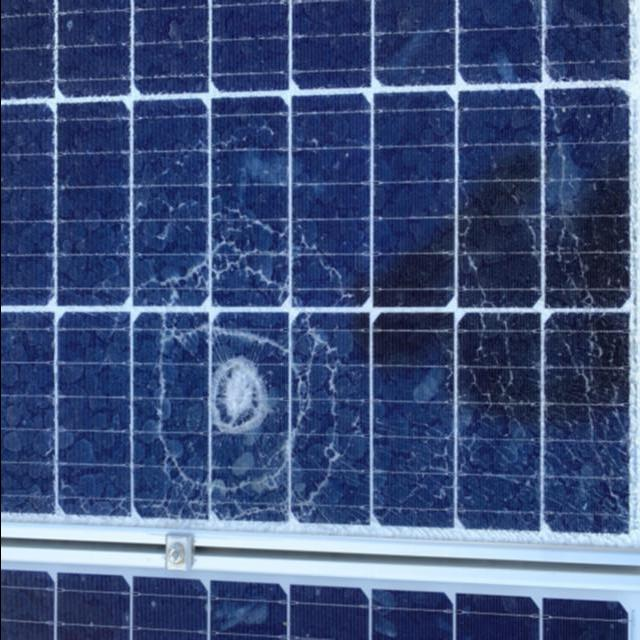cracked: (2, 2, 640, 561)
